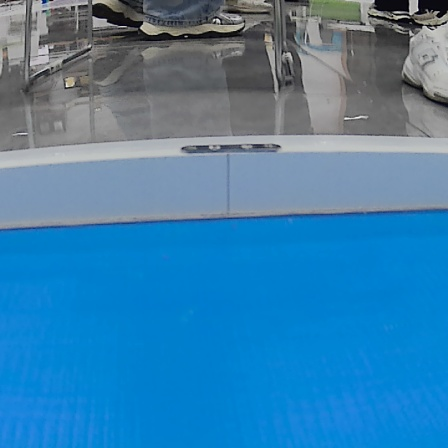blue_base: (1, 207, 448, 448)
